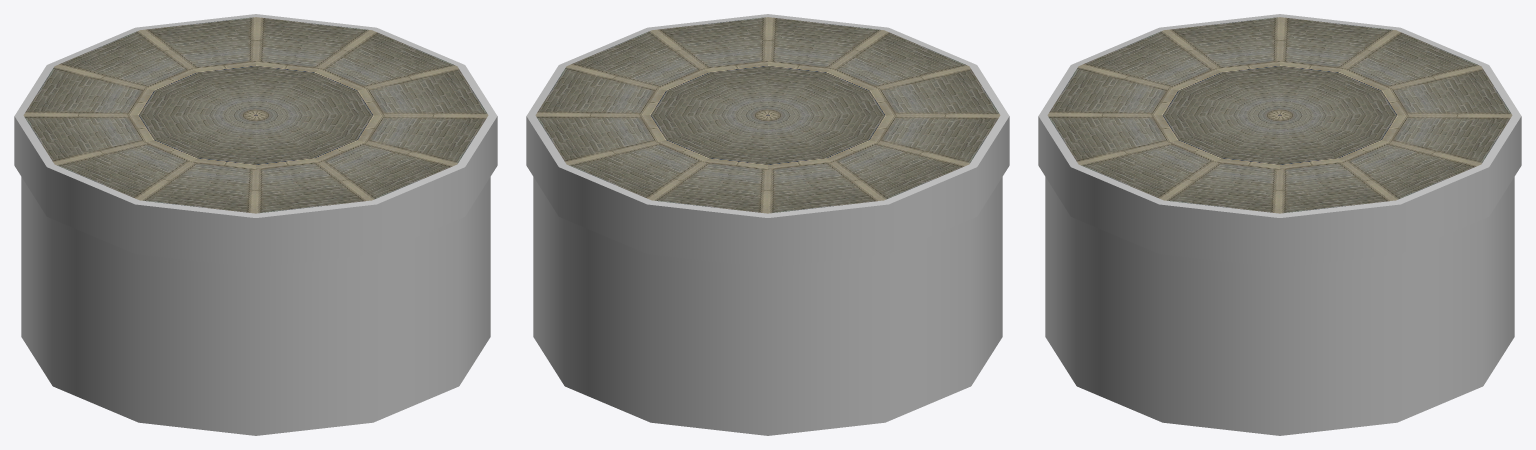
The model's file is environment_Building_zhucheng_jianzhu_001_h.FBX.
The picture shows the model from 3 angles, left to right: view 1: azimuth 30°, elevation 25°; view 2: azimuth 150°, elevation 25°; view 3: azimuth 270°, elevation 25°; orthographic projection.
Visible parts, largest first — view 1: environment_Building_zhucheng_jianzhu_001_h3, environment_Building_zhucheng_jianzhu_001_h1, environment_Building_zhucheng_jianzhu_001_h2; view 2: environment_Building_zhucheng_jianzhu_001_h3, environment_Building_zhucheng_jianzhu_001_h1, environment_Building_zhucheng_jianzhu_001_h2; view 3: environment_Building_zhucheng_jianzhu_001_h3, environment_Building_zhucheng_jianzhu_001_h1, environment_Building_zhucheng_jianzhu_001_h2.
Part boxes in pixels (x1=…): environment_Building_zhucheng_jianzhu_001_h3: x1=21, y1=177, x2=490, y2=435; environment_Building_zhucheng_jianzhu_001_h1: x1=23, y1=17, x2=488, y2=213; environment_Building_zhucheng_jianzhu_001_h2: x1=14, y1=14, x2=497, y2=267; environment_Building_zhucheng_jianzhu_001_h3: x1=533, y1=177, x2=1002, y2=435; environment_Building_zhucheng_jianzhu_001_h1: x1=535, y1=17, x2=1000, y2=213; environment_Building_zhucheng_jianzhu_001_h2: x1=526, y1=14, x2=1009, y2=267; environment_Building_zhucheng_jianzhu_001_h3: x1=1045, y1=177, x2=1514, y2=435; environment_Building_zhucheng_jianzhu_001_h1: x1=1047, y1=17, x2=1512, y2=213; environment_Building_zhucheng_jianzhu_001_h2: x1=1038, y1=14, x2=1521, y2=267.
Bounding box in the file's own units: 6935 × 3507 × 6935.
